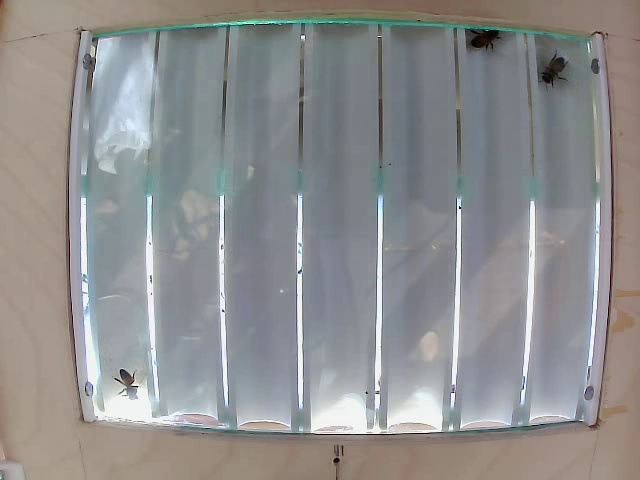bee: (112, 365, 161, 399), (473, 24, 511, 64), (539, 55, 573, 99)
